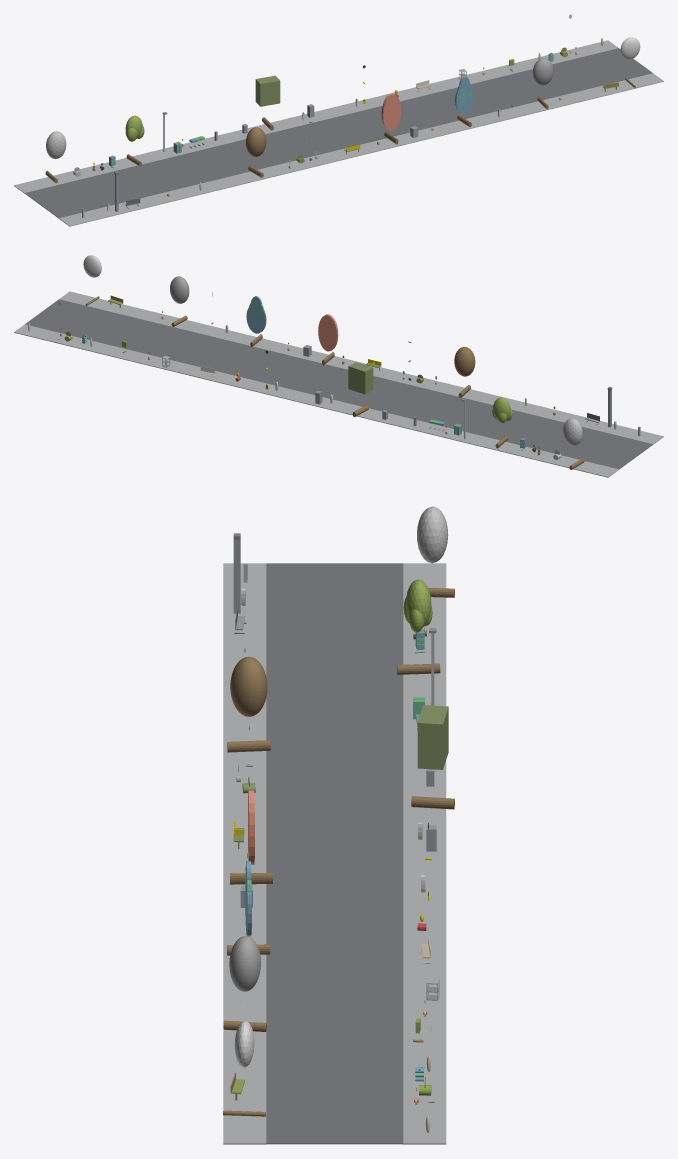
3 renders of one model, top to bottom at view 1: azimuth 30°, elevation 25°; view 2: azimuth 150°, elevation 25°; view 3: azimuth 270°, elevation 25°, orthographic. The views are drawn at different scales.
Parts seen in each view (by area): view 1: road_slab, sidewalk_left, sidewalk_right, inst_0021, inst_0022, inst_0023, inst_0020, inst_0018, inst_0024, inst_0019, inst_0025; view 2: road_slab, sidewalk_right, sidewalk_left, inst_0021, inst_0022, inst_0023, inst_0020, inst_0018, inst_0024, inst_0019, inst_0025; view 3: road_slab, sidewalk_right, sidewalk_left, inst_0021, inst_0020, inst_0024, inst_0018, inst_0019, inst_0025, inst_0022.
Part boxes in pixels (box(x1,y1,x2,y2)): road_slab: box(24, 48, 652, 218); sidewalk_left: box(59, 73, 663, 226); sidewalk_right: box(14, 40, 618, 193); inst_0021: box(255, 75, 280, 130); inst_0022: box(381, 93, 401, 144); inst_0023: box(455, 76, 473, 127); inst_0020: box(246, 127, 266, 177); inst_0018: box(45, 131, 66, 183); inst_0024: box(532, 58, 553, 109); inst_0019: box(125, 115, 144, 166); inst_0025: box(620, 37, 640, 87); road_slab: box(25, 299, 652, 469); sidewalk_right: box(14, 324, 618, 477); sidewalk_left: box(59, 291, 663, 444); inst_0021: box(348, 362, 373, 417); inst_0022: box(318, 314, 338, 365); inst_0023: box(246, 296, 266, 346); inst_0020: box(454, 347, 475, 397); inst_0018: box(563, 418, 584, 469); inst_0024: box(170, 276, 189, 326); inst_0019: box(492, 397, 512, 448); inst_0025: box(83, 255, 101, 305); road_slab: box(266, 563, 403, 1144); sidewalk_right: box(403, 563, 446, 1144); sidewalk_left: box(223, 563, 266, 1144); inst_0021: box(411, 705, 454, 809); inst_0020: box(227, 657, 270, 752); inst_0024: box(223, 936, 266, 1031); inst_0018: box(417, 506, 454, 597); inst_0019: box(397, 579, 440, 674); inst_0025: box(223, 1021, 265, 1116); inst_0022: box(230, 789, 272, 884).
Bounding box in the file's own units: 80 × 6.08 × 13.52.
